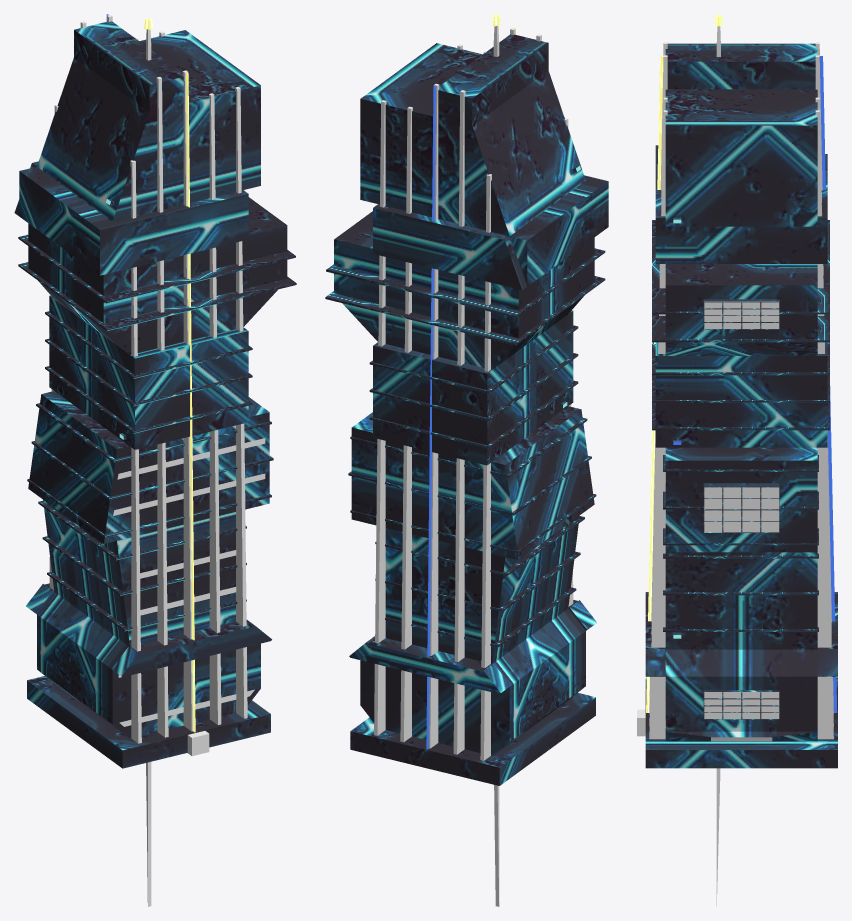
File: dublintech3.gltf
3 views of the same model, side by side, from view 1: azimuth 30°, elevation 25°; view 2: azimuth 150°, elevation 25°; view 3: azimuth 270°, elevation 25° (orthographic).
Visible parts, largest first — view 1: 0_curve_.011, Plane.022, Plane.020, Plane.023, Plane.014, Plane.021, Plane.016, Plane.012, Plane.010, Plane.024, Plane.057, Plane.019 (+7 smaller); view 2: 0_curve_.011, Plane.029, Plane.026, Plane.027, Plane.028, Plane.030, Plane.016, Plane.012, Plane.010, Plane.025, Plane.057, Plane.019 (+5 smaller); view 3: 0_curve_.011, Plane.026, Plane.023, 0_curve_.008, 0_curve_.006, Plane.012, Plane.025, Plane.016, Plane.024, Plane.010, Plane.019, Plane.017 (+10 smaller).
Boxes of the visible parts, bbox=[...] form: 0_curve_.011: bbox=[14, 21, 287, 768]; Plane.022: bbox=[209, 93, 221, 724]; Plane.020: bbox=[156, 77, 168, 737]; Plane.023: bbox=[235, 87, 247, 718]; Plane.014: bbox=[130, 160, 141, 743]; Plane.021: bbox=[182, 70, 192, 731]; Plane.016: bbox=[27, 403, 273, 537]; Plane.012: bbox=[18, 234, 295, 303]; Plane.010: bbox=[18, 262, 296, 330]; Plane.024: bbox=[186, 72, 195, 732]; Plane.057: bbox=[144, 17, 152, 906]; Plane.019: bbox=[45, 311, 252, 378]; 0_curve_.011: bbox=[334, 34, 608, 785]; Plane.029: bbox=[453, 90, 465, 754]; Plane.026: bbox=[374, 100, 386, 735]; Plane.027: bbox=[400, 106, 412, 742]; Plane.028: bbox=[429, 83, 439, 748]; Plane.030: bbox=[480, 174, 491, 760]; Plane.016: bbox=[348, 418, 596, 553]; Plane.012: bbox=[326, 248, 605, 317]; Plane.010: bbox=[325, 276, 605, 345]; Plane.025: bbox=[426, 85, 435, 749]; Plane.057: bbox=[492, 14, 500, 906]; Plane.019: bbox=[369, 325, 578, 393]; 0_curve_.011: bbox=[645, 43, 837, 768]; Plane.026: bbox=[815, 110, 833, 739]; Plane.023: bbox=[649, 110, 667, 739]; 0_curve_.008: bbox=[704, 487, 779, 532]; 0_curve_.006: bbox=[704, 692, 779, 718]; Plane.012: bbox=[652, 220, 829, 314]; Plane.025: bbox=[819, 56, 837, 712]; Plane.016: bbox=[663, 455, 818, 545]; Plane.024: bbox=[646, 56, 663, 712]; Plane.010: bbox=[652, 314, 829, 342]; Plane.019: bbox=[652, 342, 829, 375]; Plane.017: bbox=[652, 402, 829, 430].
Size of the model in its own units: 3.87 by 16.56 by 3.38.
Materials: 8 (2 with a texture image).
